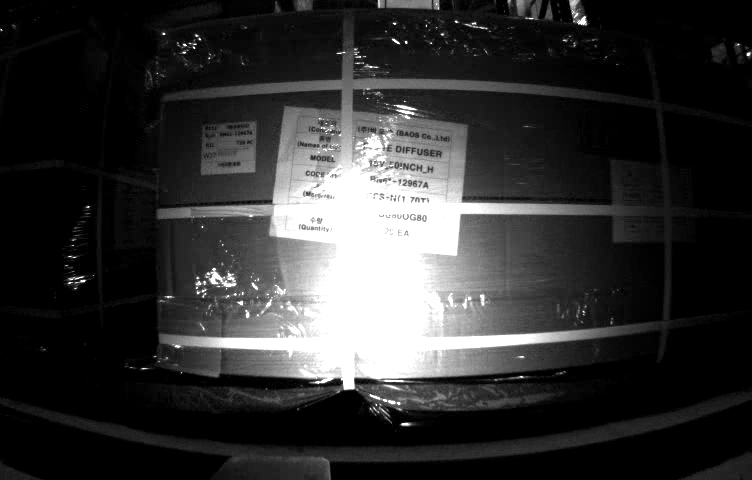True Barcode: (202, 123, 258, 175)
